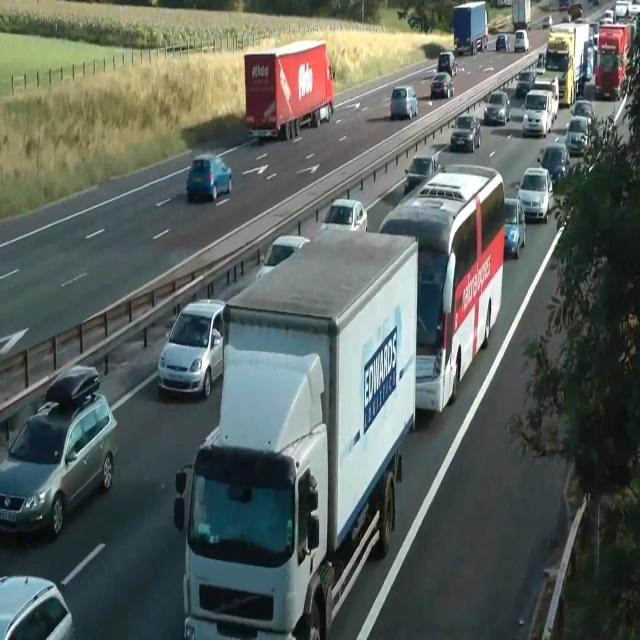bus: (157, 298, 227, 397), (0, 574, 74, 639), (256, 234, 310, 281), (45, 364, 100, 408), (186, 153, 232, 202), (516, 166, 554, 222), (320, 197, 368, 233), (404, 154, 442, 196), (536, 143, 570, 186), (504, 196, 526, 258), (450, 113, 481, 152), (533, 75, 559, 120), (564, 116, 590, 156), (390, 85, 418, 119), (484, 90, 511, 125), (570, 99, 596, 125), (430, 71, 454, 99), (516, 69, 538, 99), (437, 52, 457, 76), (514, 29, 529, 52), (614, 0, 630, 18), (496, 33, 510, 51), (568, 2, 582, 20), (534, 53, 545, 73), (628, 0, 640, 17), (542, 14, 552, 28), (604, 9, 614, 23), (558, 0, 570, 11), (561, 14, 572, 22), (587, 0, 598, 5)
car: (377, 162, 505, 413)
jeep: (0, 368, 118, 538), (521, 88, 553, 137)
minibus: (173, 228, 419, 639), (244, 38, 334, 142), (544, 20, 591, 106), (593, 22, 633, 100), (452, 1, 488, 55), (512, 0, 532, 31)
